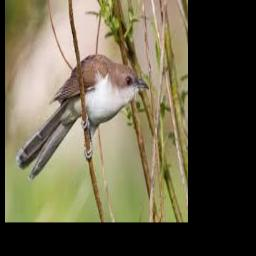Cuckoo: (15, 54, 149, 180)
